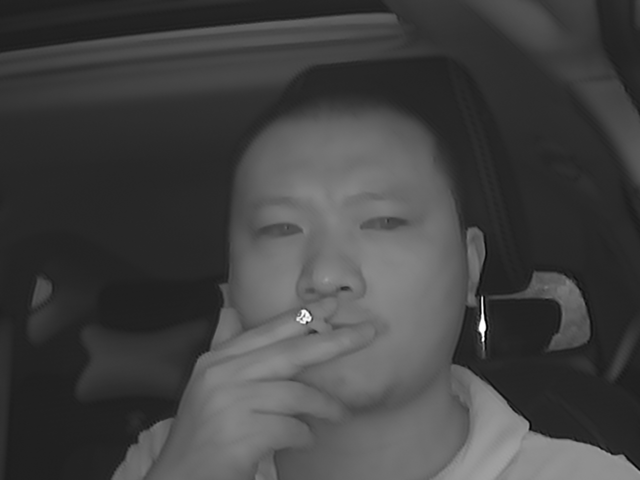hand: (221, 297, 368, 460)
